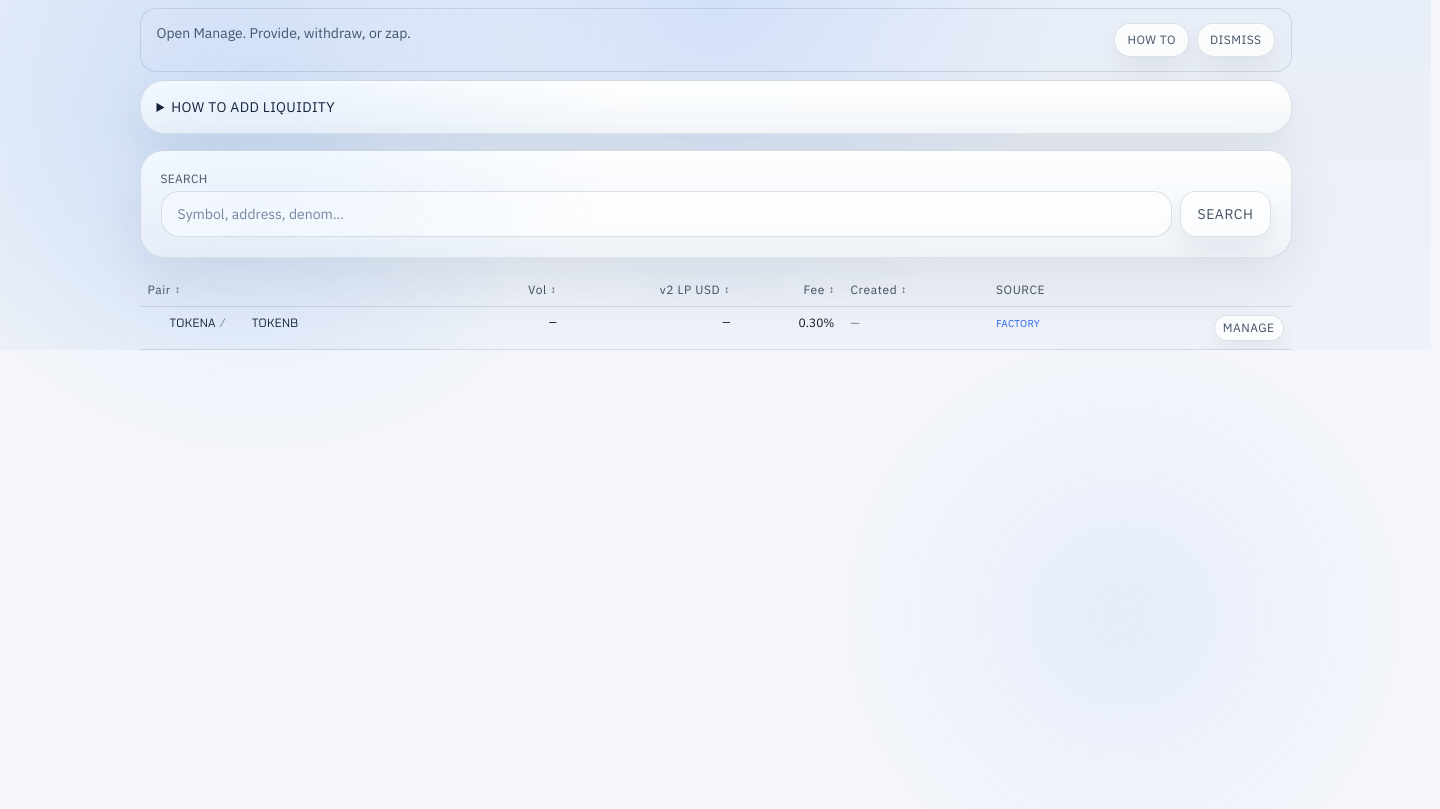
Test: PoolPage › shows provide pre-sign summary before submit when both amounts are entered (GitLab #462 / SEC-I05)
The image size is (1440, 809).
Click the button with test id "pool-row-manage" at x=1249, y=328, box [1214,315,1284,341]
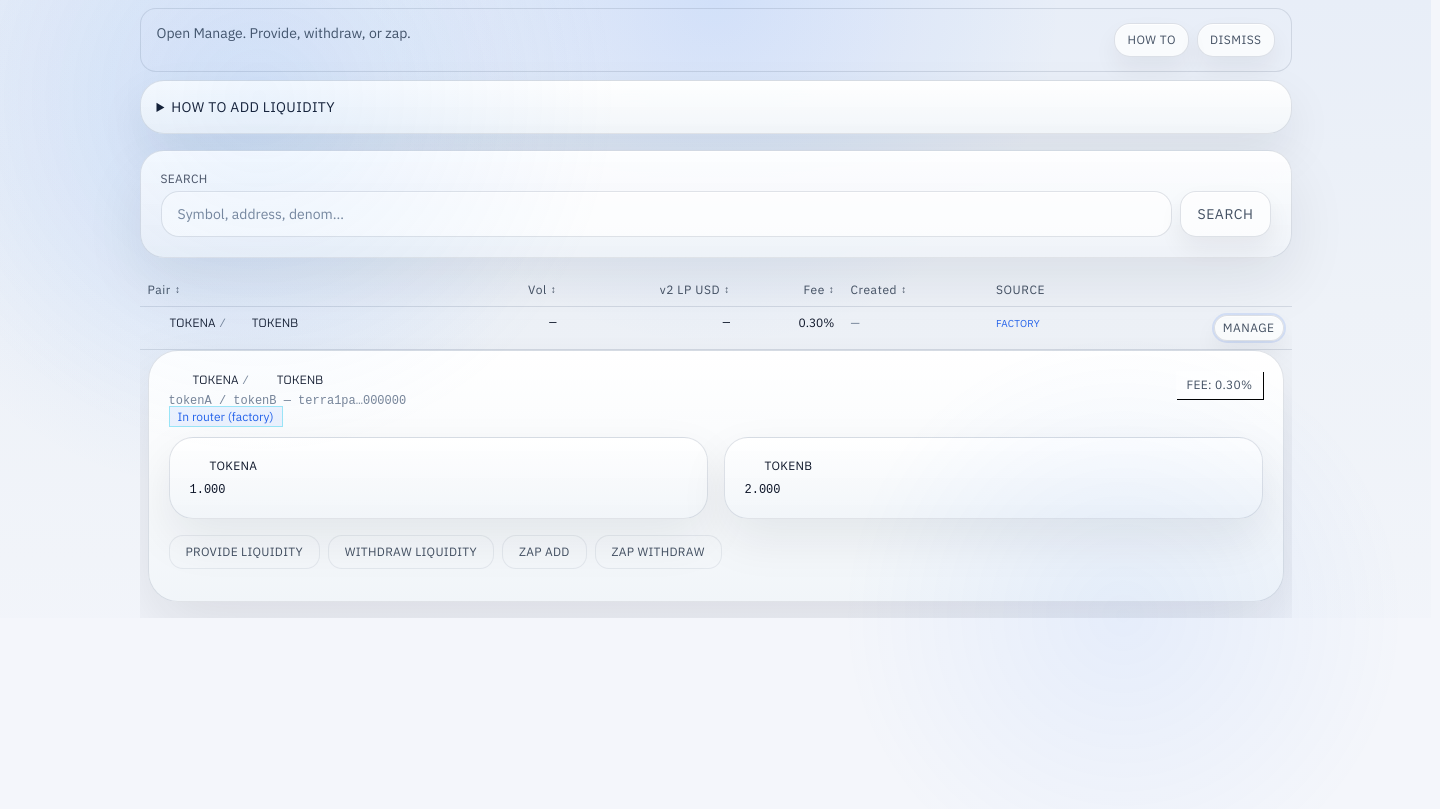
expect the element with test id "pool-manage-actions" is shown: met, box [168,535,722,569]
Click the button with test id "pool-manage-tab-provide" at x=244, y=552, box [168,535,320,569]
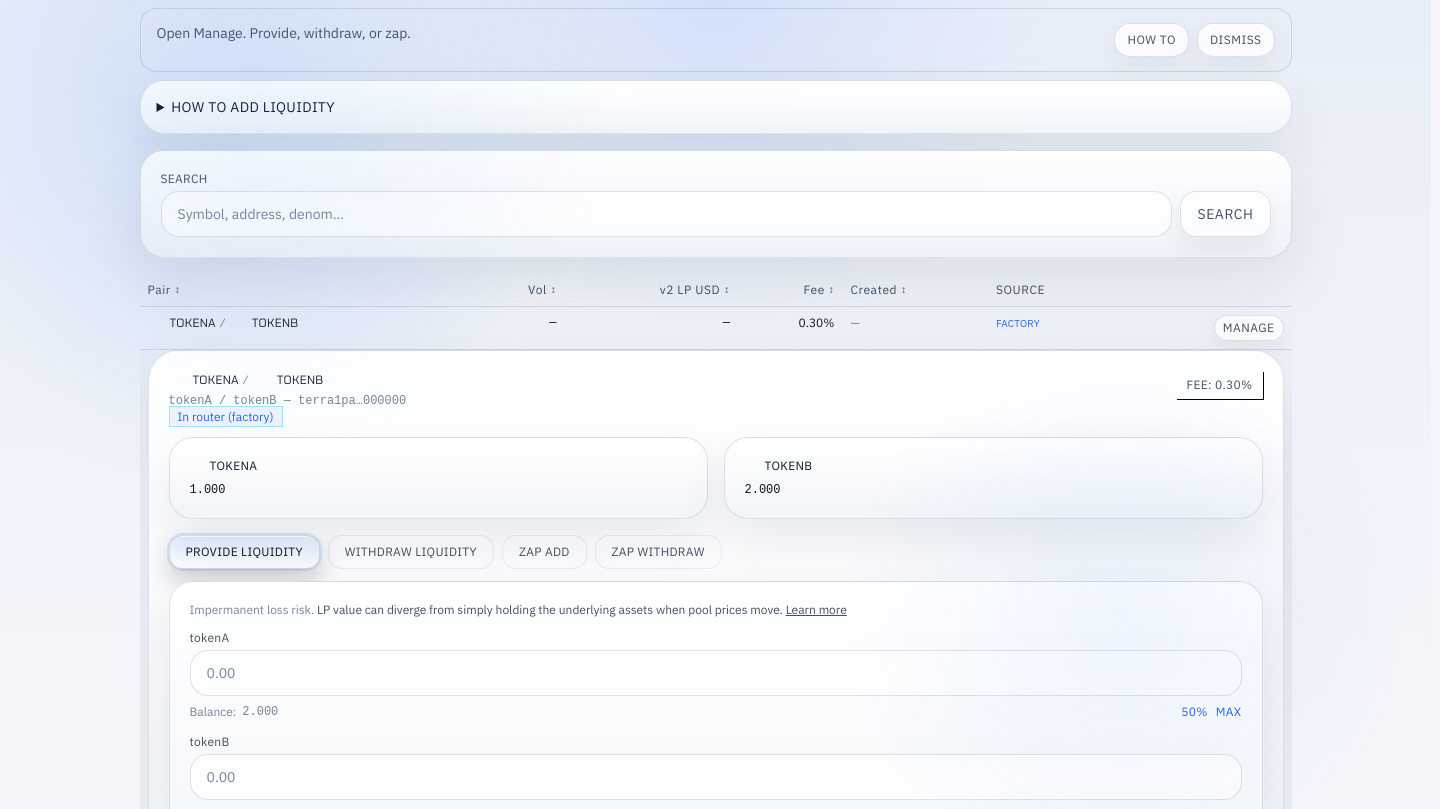
Type "1" into the field named "tokenA amount" at x=716, y=673, box [190,650,1242,696]
(page scrolled)
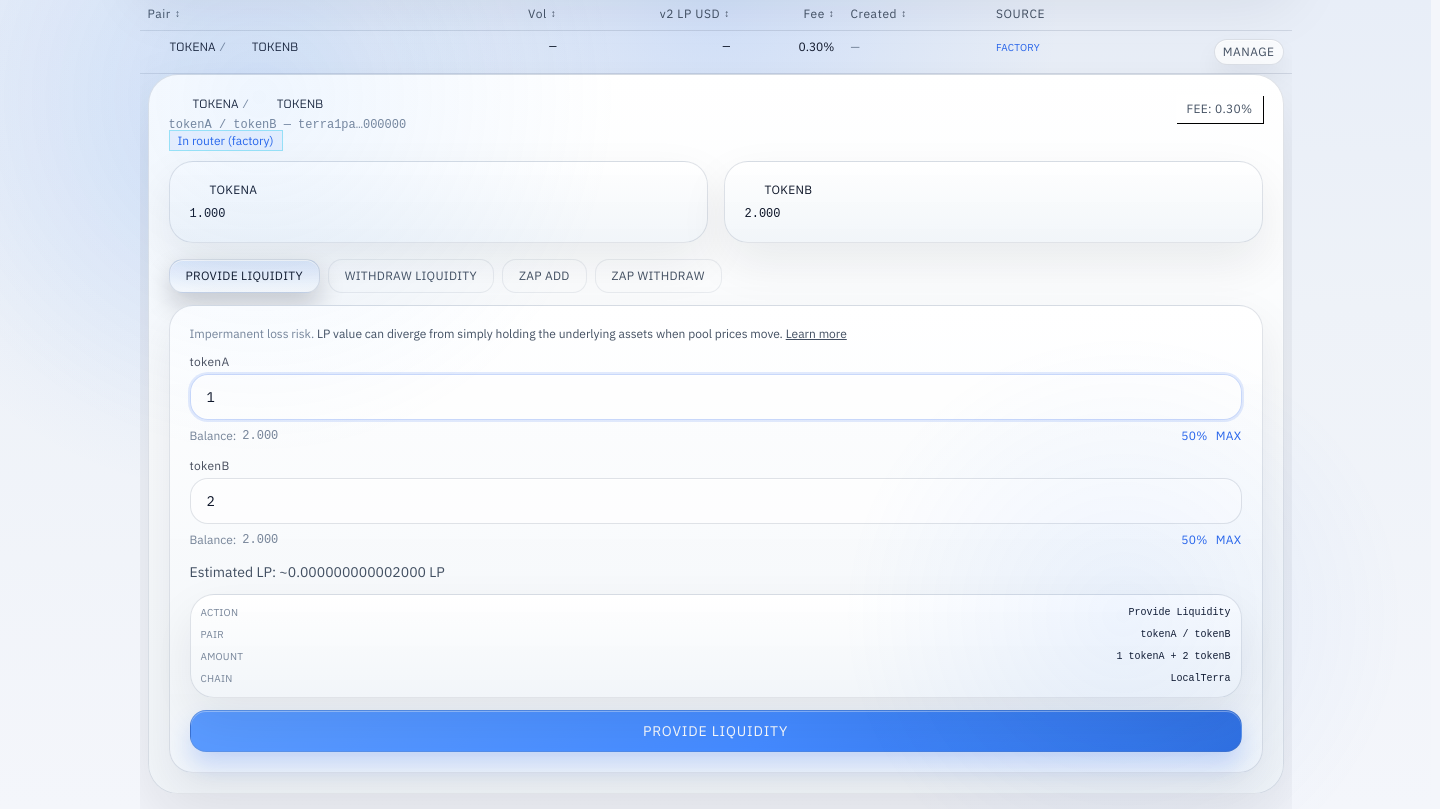
expect the element with test id "pool-provide-pre-submit-summary" shows "Provide Liquidity": met, box [1128,607,1230,618]
expect the element with test id "pool-provide-pre-submit-summary-pair" is shown: met, box [200,627,1230,643]
expect the element with test id "pool-provide-pre-submit-summary-amount" shows "1": met, box [1116,651,1230,662]
